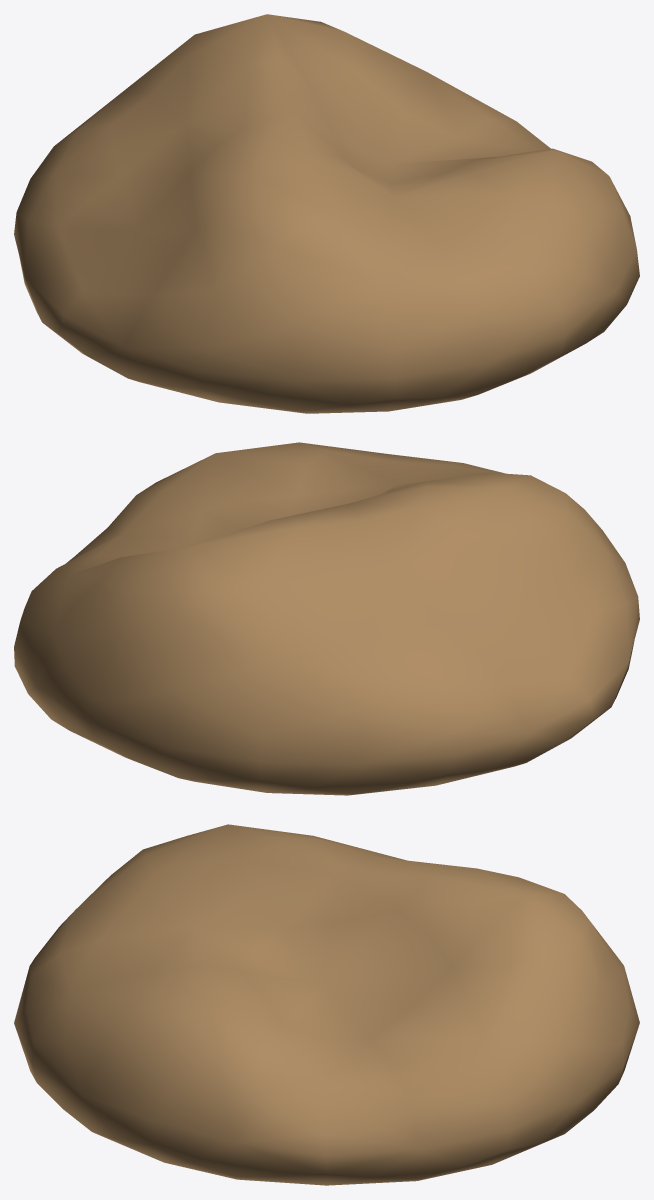
Rendered from Gruel.fbx.
The picture shows the model from 3 angles, top to bottom: view 1: azimuth 30°, elevation 25°; view 2: azimuth 150°, elevation 25°; view 3: azimuth 270°, elevation 25°; orthographic projection. The views are drawn at different scales.
Parts seen in each view (by area): view 1: Icosphere; view 2: Icosphere; view 3: Icosphere.
Boxes of the visible parts, bbox=[...] form: Icosphere: bbox=[14, 14, 639, 413]; Icosphere: bbox=[14, 442, 639, 795]; Icosphere: bbox=[14, 824, 639, 1185].
Size of the model in its own units: 179 by 68.24 by 185.
